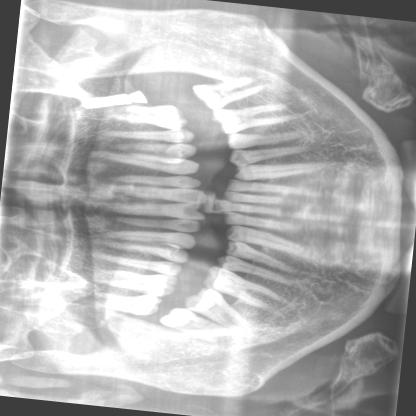ITI: (70, 88, 137, 111)
